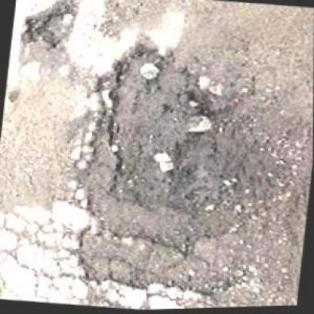Hueco: (69, 33, 297, 262), (17, 0, 80, 55)
